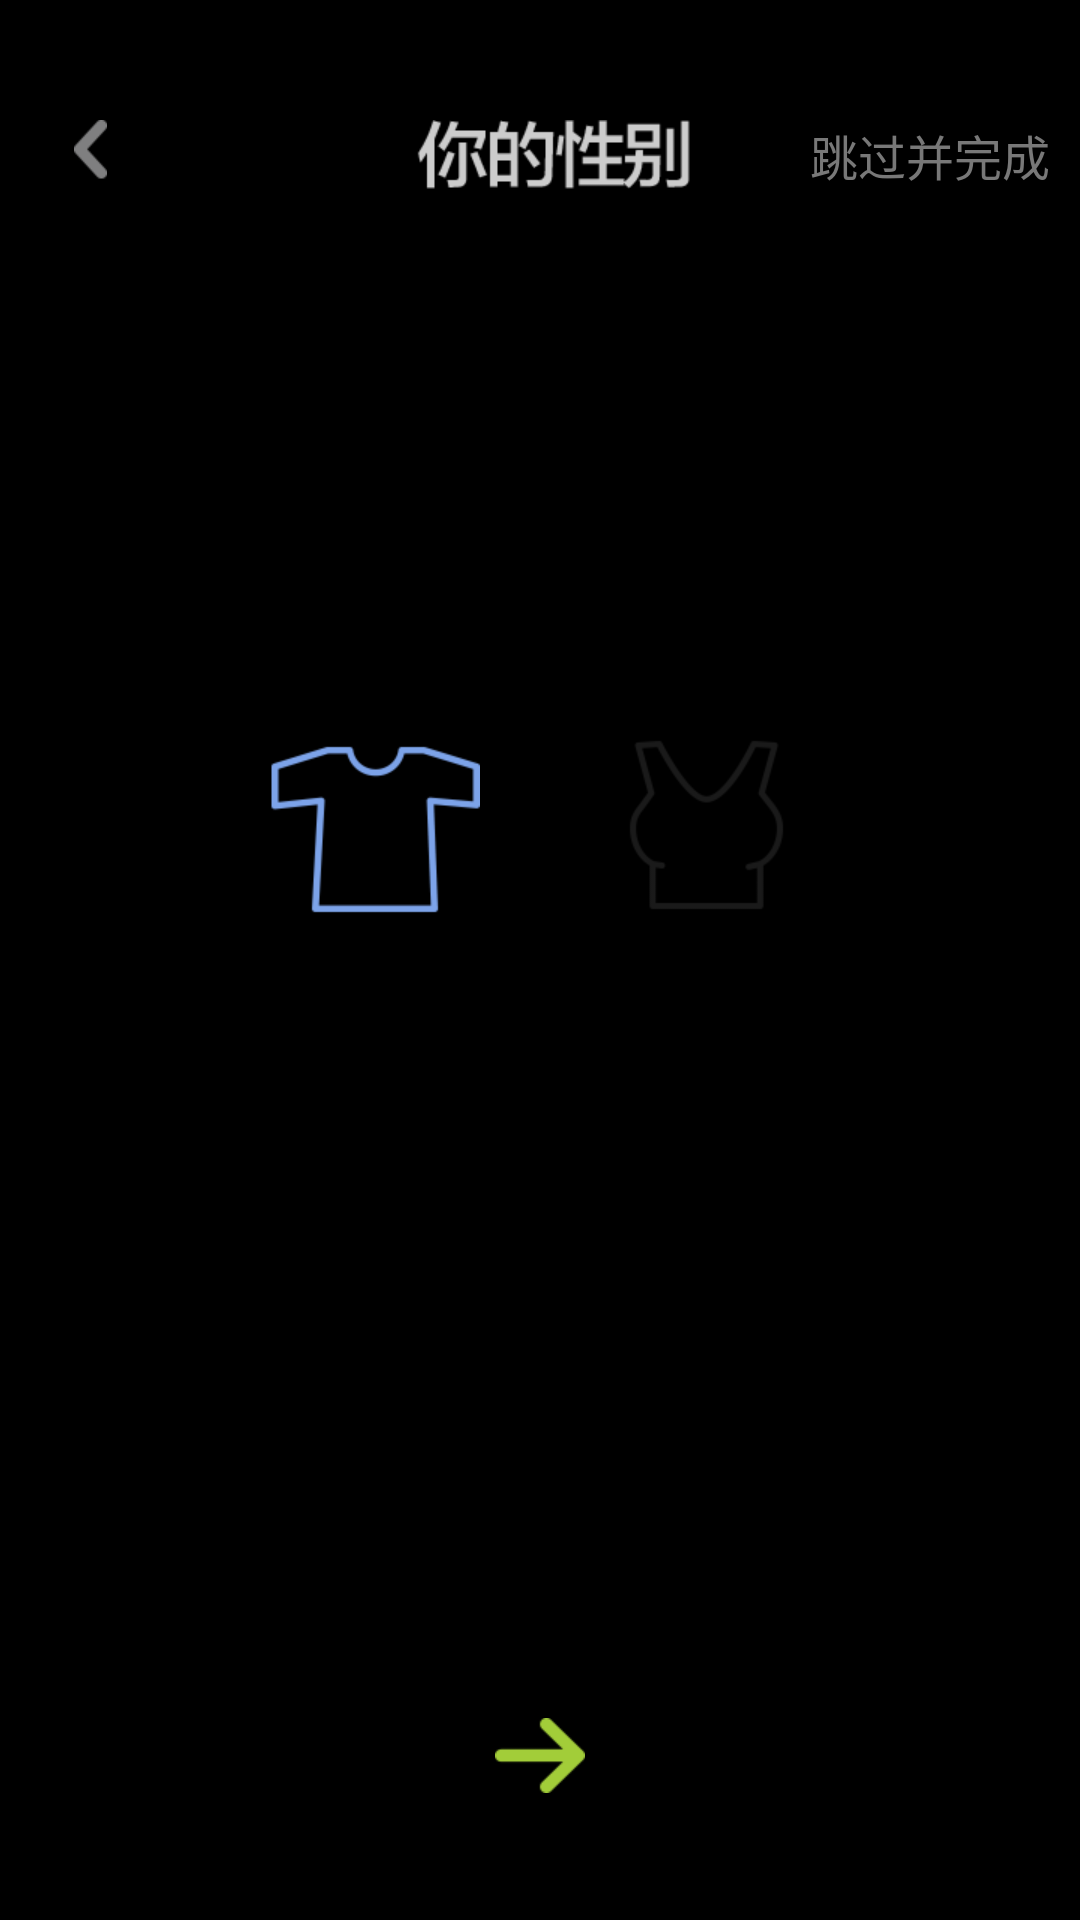

Screen size 1080×1920. Icon name, then its center in pixels as (x,y):
back: (90,149)
female: (706,825)
male: (375,829)
regist arrow: (540,1755)
